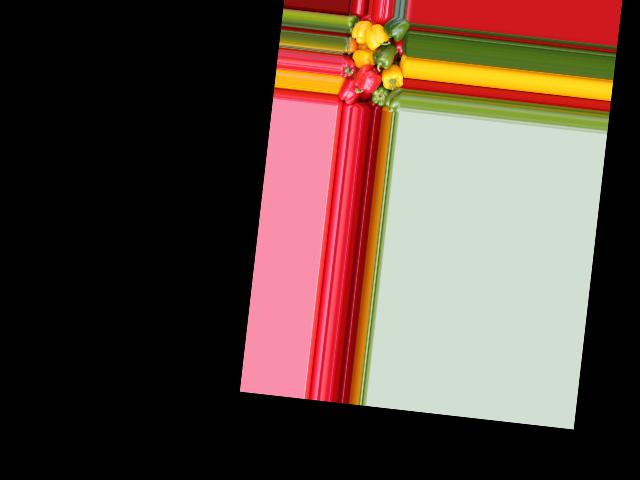bell_pepper: (344, 15, 358, 37)
